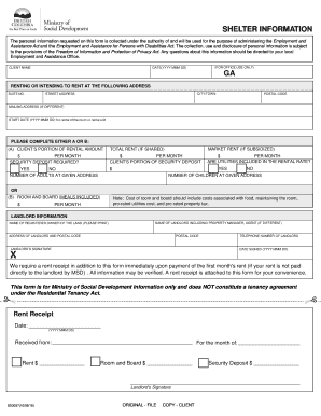checkbox: (8, 162, 23, 174), (37, 162, 50, 175), (235, 162, 248, 175), (89, 355, 101, 369), (197, 357, 211, 369), (11, 356, 23, 369), (207, 163, 220, 174)
textbox: (4, 102, 315, 119), (4, 114, 315, 131), (3, 244, 239, 262), (41, 88, 197, 107), (152, 218, 315, 236), (166, 169, 315, 188), (4, 232, 177, 248), (4, 170, 169, 186), (4, 64, 152, 80), (3, 220, 156, 235), (203, 143, 315, 162), (210, 61, 315, 80), (103, 156, 207, 175), (5, 142, 108, 161), (105, 143, 207, 162), (3, 193, 112, 209), (236, 231, 315, 249), (194, 88, 264, 107), (236, 245, 315, 261), (174, 231, 239, 248), (260, 87, 315, 107), (149, 63, 213, 80), (4, 89, 44, 107)
textline: (129, 376, 303, 387), (52, 335, 194, 346), (26, 318, 100, 330), (236, 335, 301, 346), (38, 355, 86, 368), (254, 356, 302, 368), (148, 356, 193, 368)
